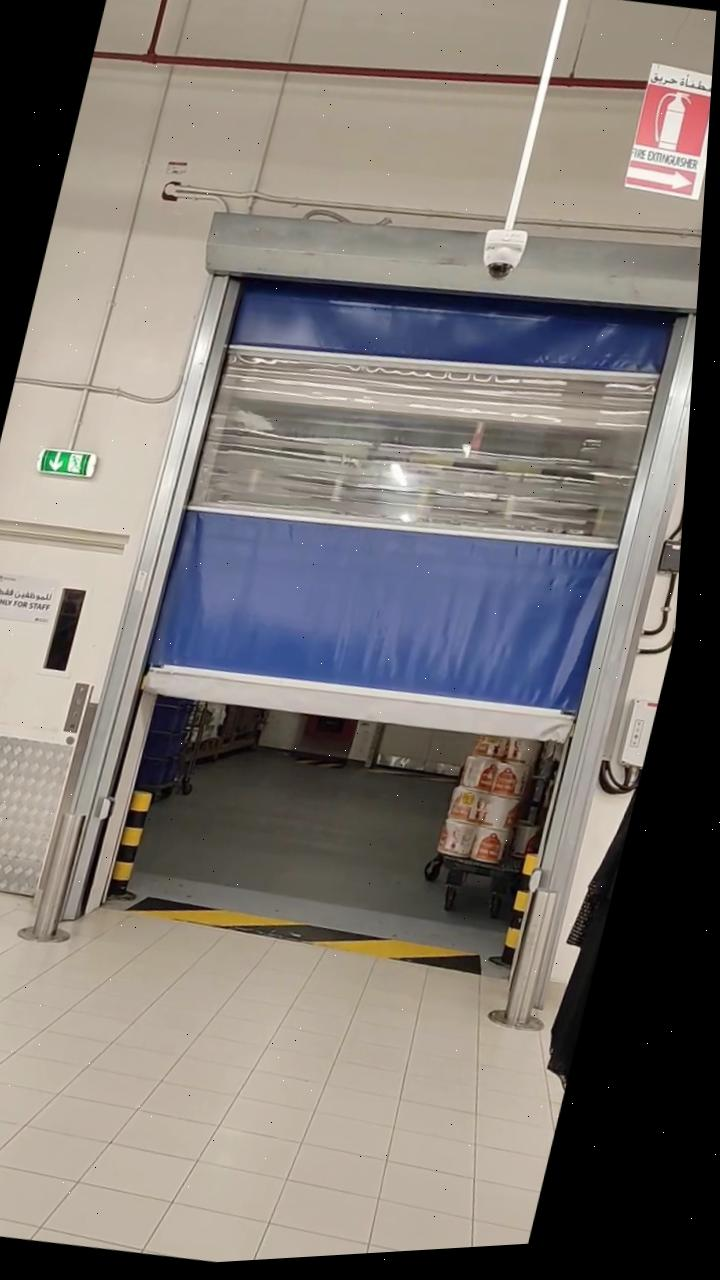Strip: (133, 867, 518, 1010)
